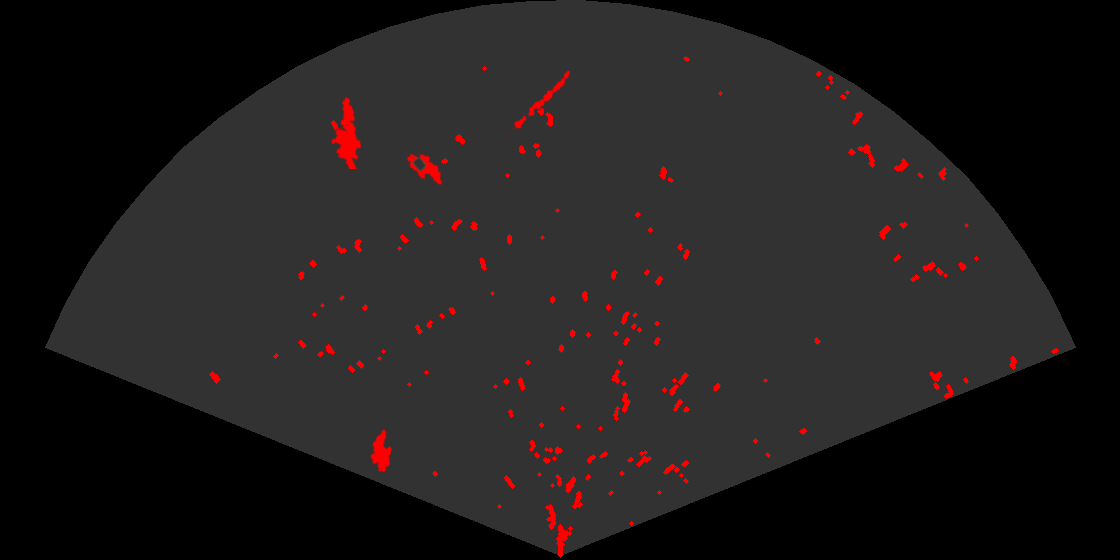AUV: (405, 152, 444, 186), (369, 427, 393, 475)
chain: (507, 69, 572, 138)
frogman: (329, 95, 363, 169)
